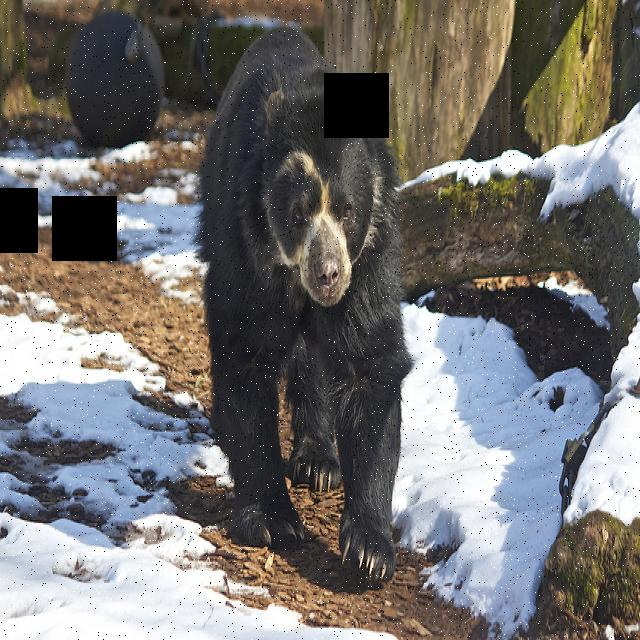Bear: (195, 21, 408, 573)
